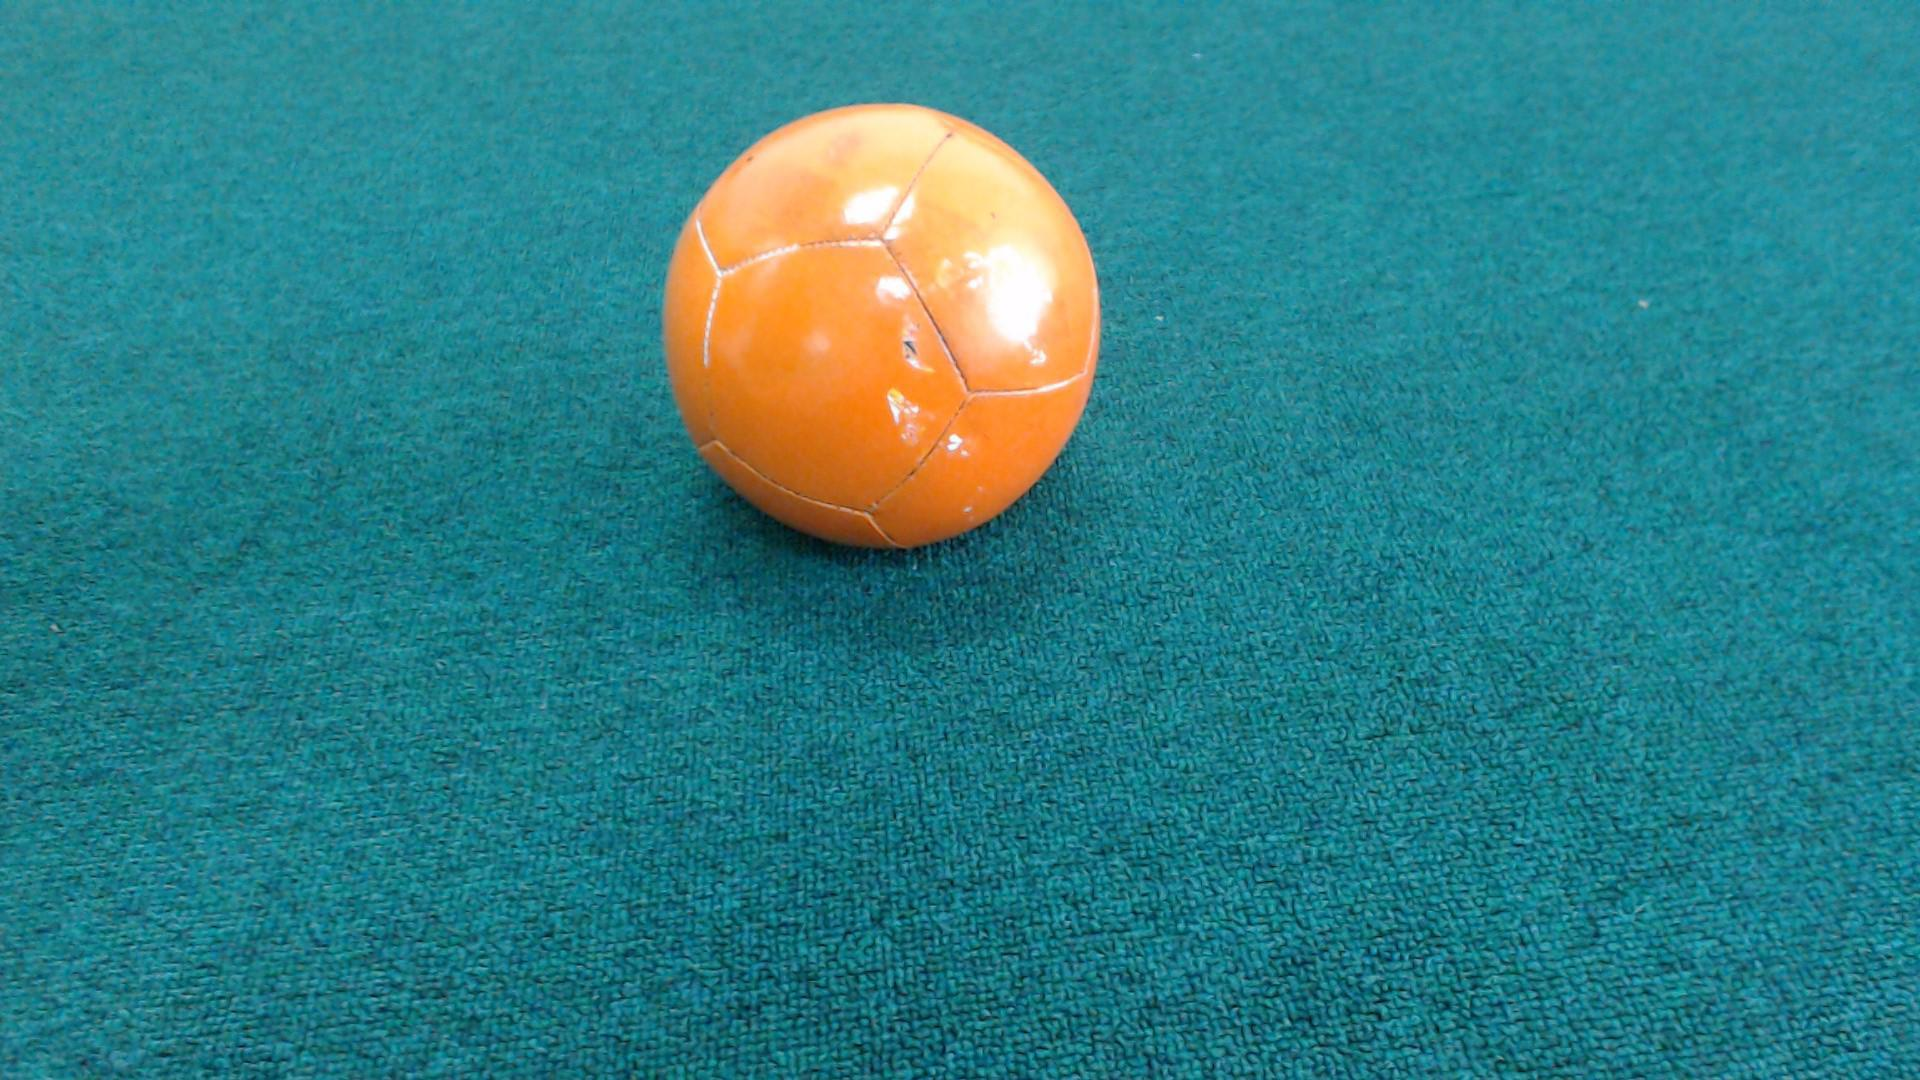bola: (641, 94, 1145, 555)
